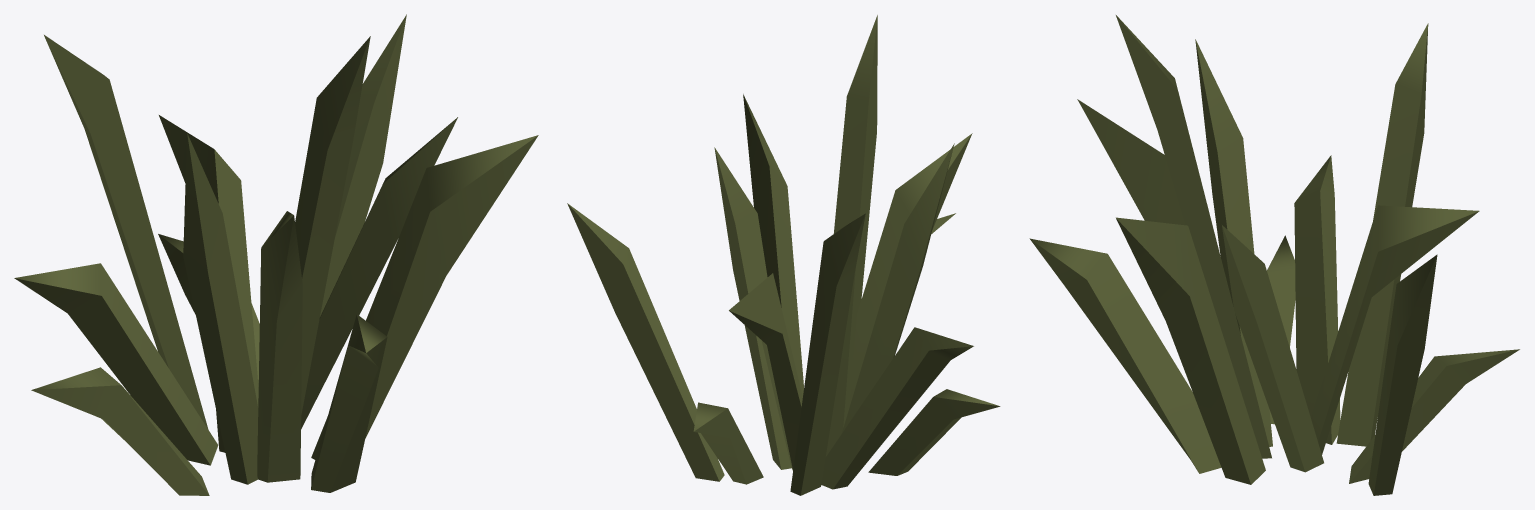
The model's file is SM_Env_Reeds_03.gltf.
3 renders of one model, left to right at view 1: azimuth 30°, elevation 25°; view 2: azimuth 150°, elevation 25°; view 3: azimuth 270°, elevation 25°, orthographic. The views are drawn at different scales.
Parts seen in each view (by area): view 1: SM_Env_Reeds_03; view 2: SM_Env_Reeds_03; view 3: SM_Env_Reeds_03.
Part boxes in pixels (box(x1,y1,x2,y2)): SM_Env_Reeds_03: box(14, 14, 538, 495); SM_Env_Reeds_03: box(567, 15, 1000, 495); SM_Env_Reeds_03: box(1029, 15, 1519, 495).
Size of the model in its own units: 0.9946 by 1.01 by 1.01.
1 material, 1 textured.
